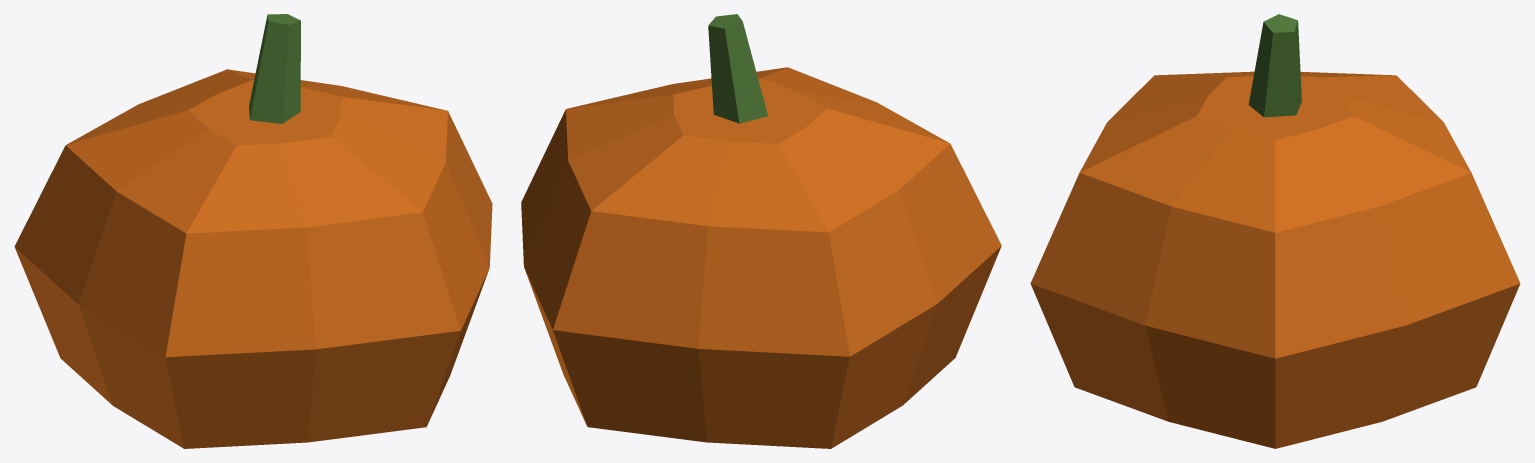
File: deco_bush.glb
3 views of the same model, side by side, from view 1: azimuth 30°, elevation 25°; view 2: azimuth 150°, elevation 25°; view 3: azimuth 270°, elevation 25° (orthographic).
Parts seen in each view (by area): view 1: deco_bush_mesh; view 2: deco_bush_mesh; view 3: deco_bush_mesh.
Part boxes in pixels (box(x1,y1,x2,y2)): deco_bush_mesh: box(14, 14, 492, 448); deco_bush_mesh: box(521, 14, 1001, 448); deco_bush_mesh: box(1030, 14, 1520, 448).
Bounding box in the file's own units: 0.1562 × 0.1369 × 0.1598.
